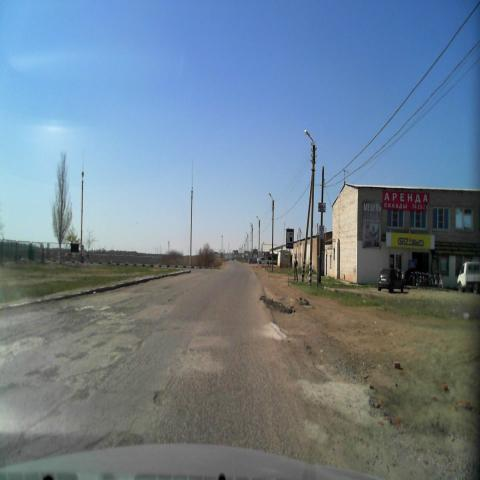7_3: (286, 228, 294, 250)
